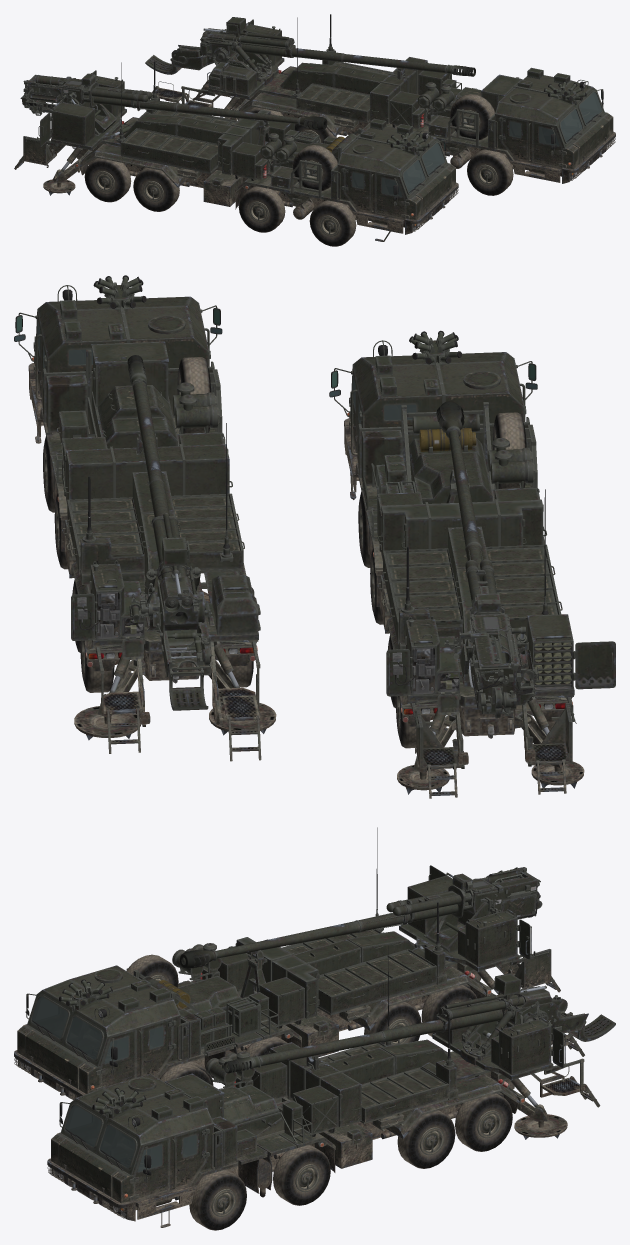
Rendered from 2s43_malva_all_modifications__broken_arrow.glb.
3 renders of one model, top to bottom at view 1: azimuth 30°, elevation 25°; view 2: azimuth 150°, elevation 25°; view 3: azimuth 270°, elevation 25°, orthographic. The views are drawn at different scales.
Visible parts, largest first — view 1: Object_2, Object_5, Object_4, Object_7, Object_3, Object_6, Object_8; view 2: Object_6, Object_3, Object_5, Object_2, Object_4, Object_7, Object_8; view 3: Object_5, Object_2, Object_3, Object_6, Object_4, Object_7, Object_8.
Boxes of the visible parts, <box> form: Object_2: <box>52,113,458,246</box>; Object_5: <box>220,62,615,195</box>; Object_4: <box>20,70,327,150</box>; Object_7: <box>145,17,475,99</box>; Object_3: <box>14,61,390,241</box>; Object_6: <box>137,14,522,125</box>; Object_8: <box>352,92,601,197</box>; Object_6: <box>35,341,276,761</box>; Object_3: <box>350,402,584,798</box>; Object_5: <box>14,275,257,724</box>; Object_2: <box>329,330,572,779</box>; Object_4: <box>386,401,615,718</box>; Object_7: <box>71,355,260,710</box>; Object_8: <box>37,320,416,423</box>; Object_5: <box>47,1039,548,1230</box>; Object_2: <box>14,931,498,1099</box>; Object_3: <box>133,827,560,1057</box>; Object_6: <box>160,945,600,1227</box>; Object_4: <box>180,865,542,971</box>; Object_7: <box>223,973,615,1080</box>; Object_8: <box>31,997,196,1171</box>.
Bounding box in the file's own units: 15.05 × 4.5 × 13.12.
2 materials, 1 textured.
